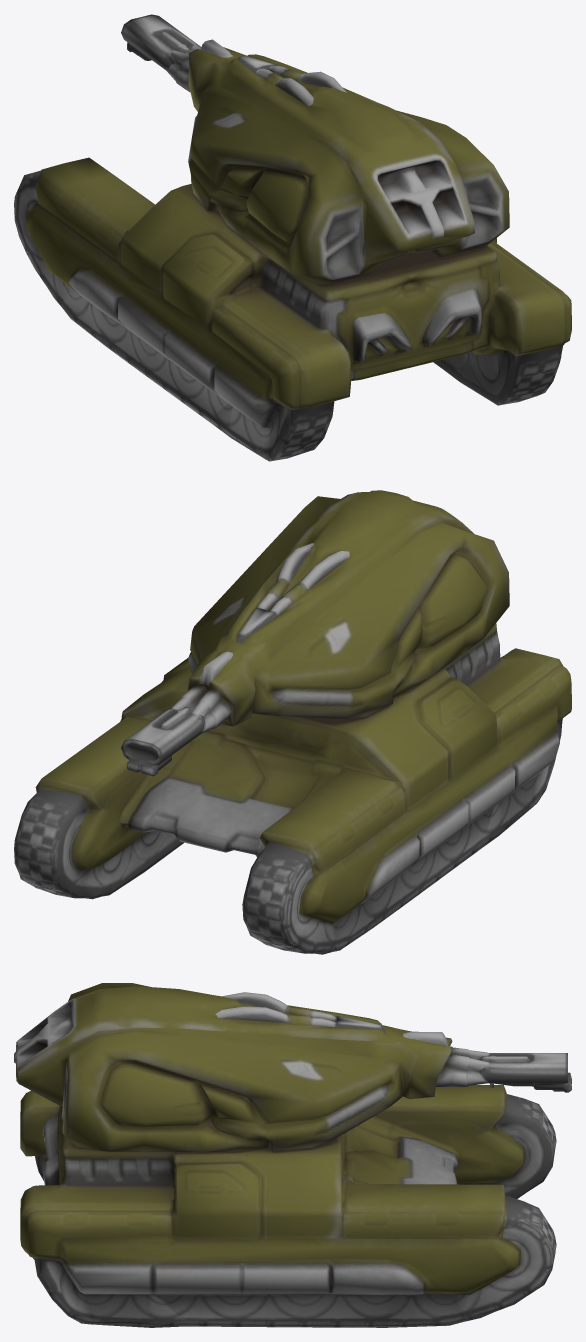
The model's file is tank.glb.
The picture shows the model from 3 angles, top to bottom: view 1: azimuth 30°, elevation 25°; view 2: azimuth 150°, elevation 25°; view 3: azimuth 270°, elevation 25°; orthographic projection. The views are drawn at different scales.
Parts seen in each view (by area): view 1: fishka; view 2: fishka; view 3: fishka.
Boxes of the visible parts, x1,y1,x2,y2 form: fishka: [14, 14, 571, 461]; fishka: [14, 490, 571, 954]; fishka: [14, 983, 571, 1327].
Size of the model in its own units: 3106 by 2838 by 5260.
Materials: 1 (1 with a texture image).
